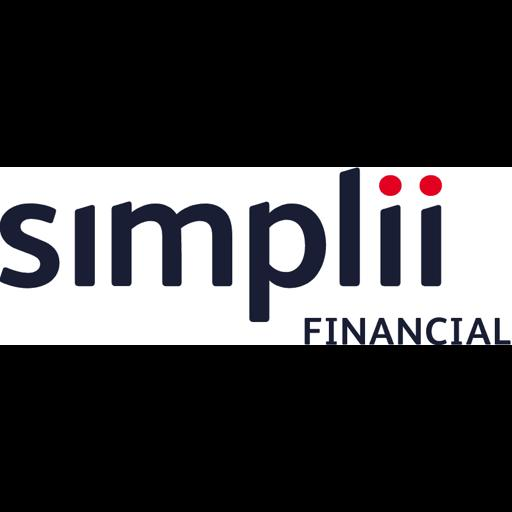Simplii Financial: (0, 167, 512, 345)
